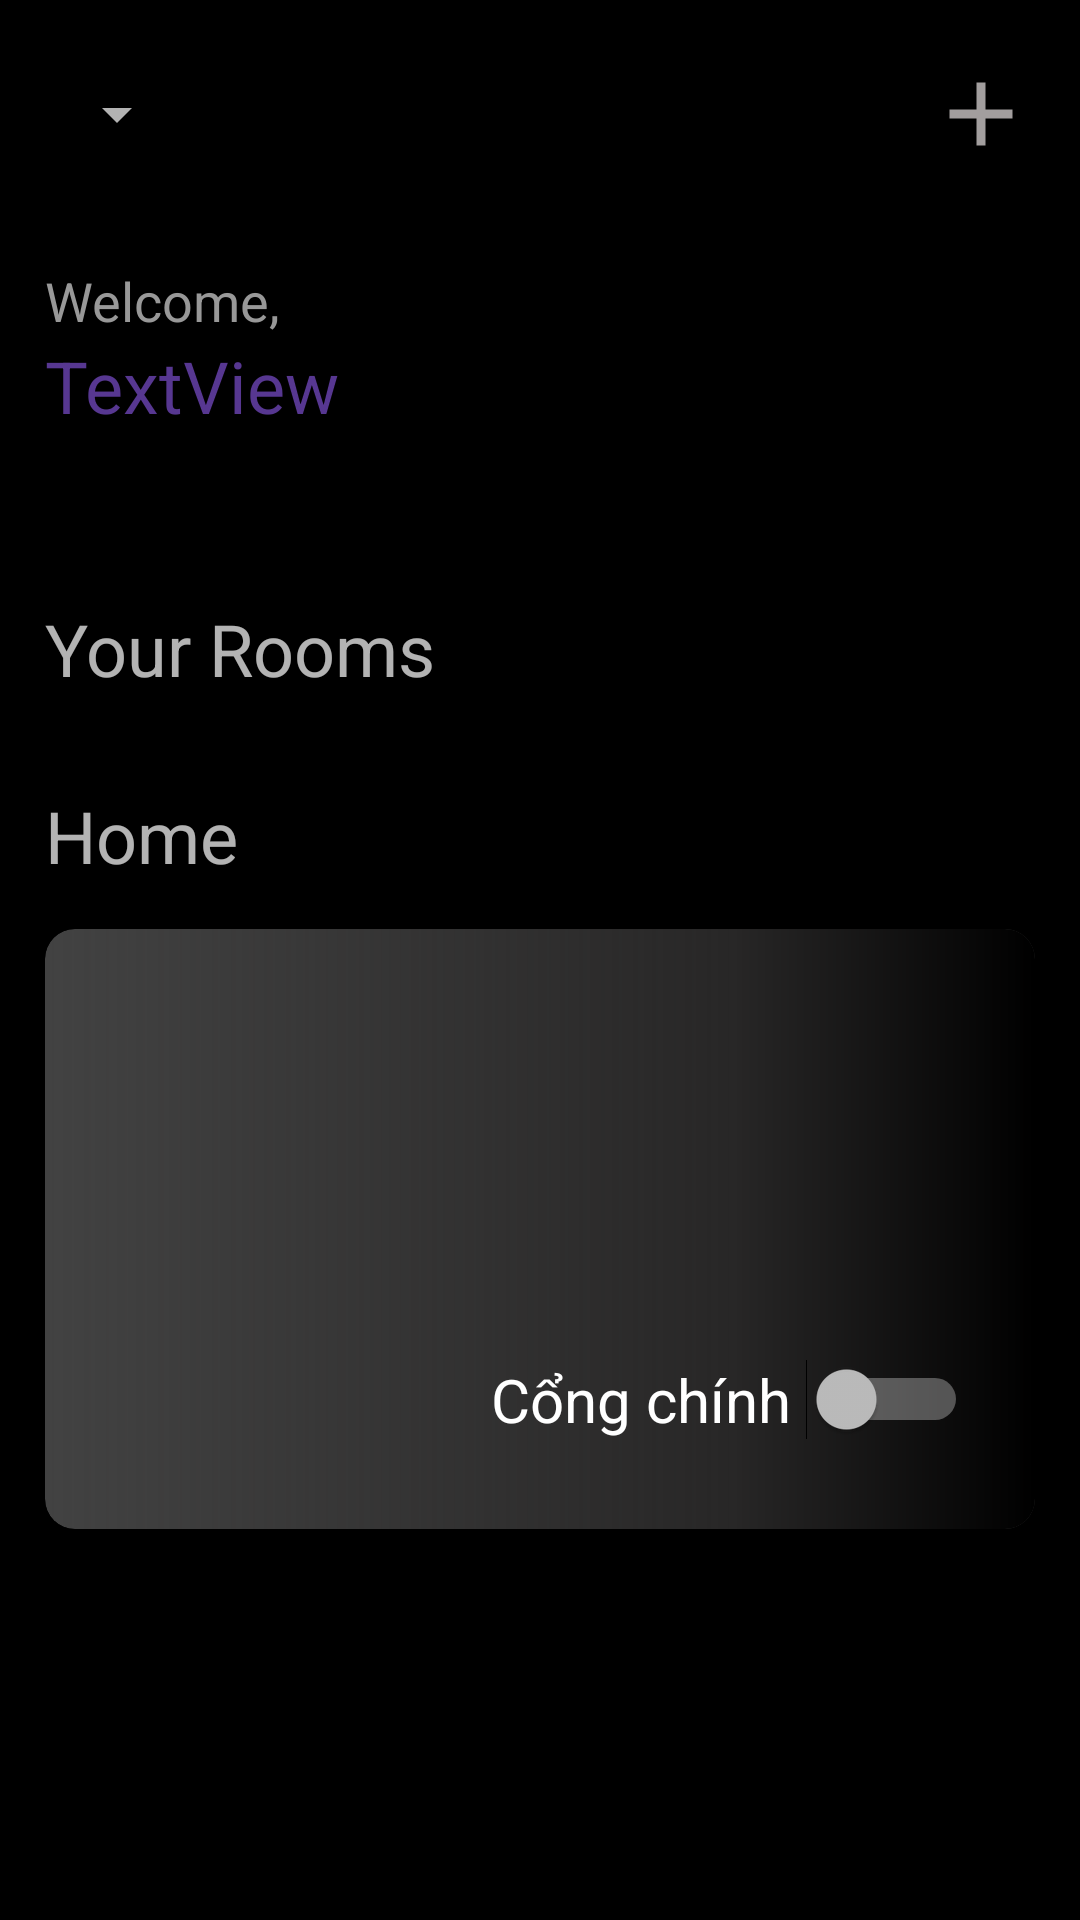

Screen size 1080*1920. Icon name, then its center in pixels as (x=x, y=y):
add: (x=981, y=114)
